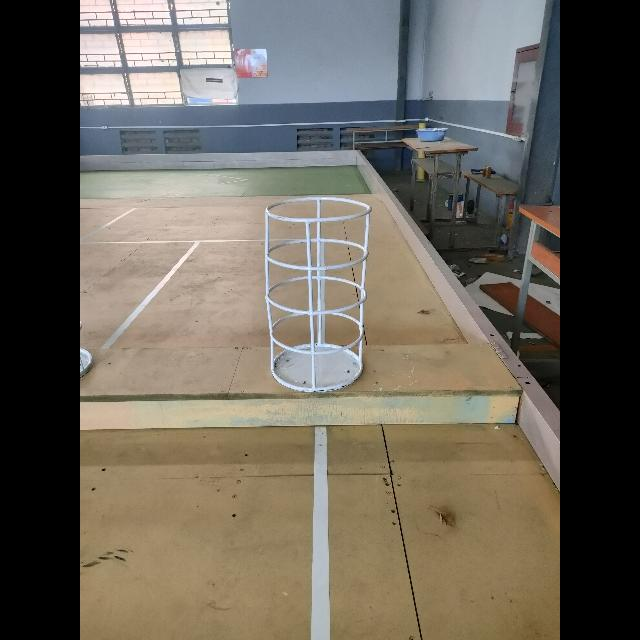S: (264, 197, 372, 397)
